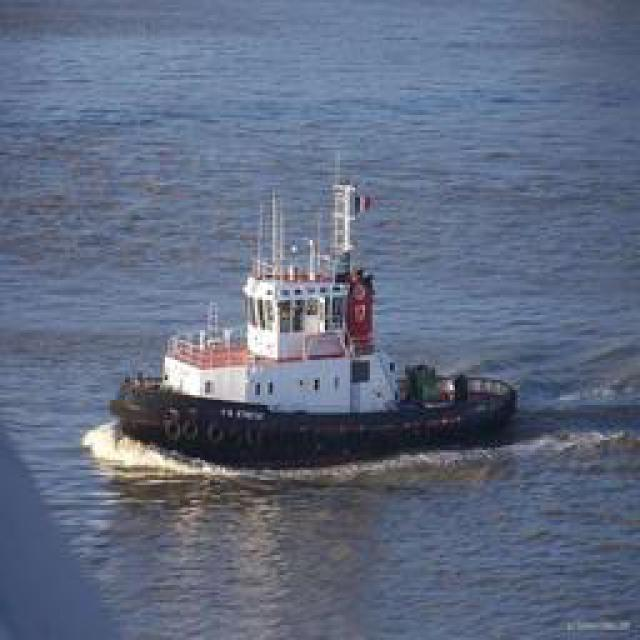Ship: (105, 160, 520, 460)
